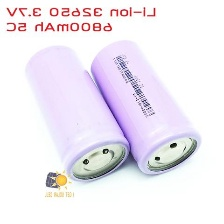battery: (87, 36, 205, 179), (21, 39, 133, 186)
